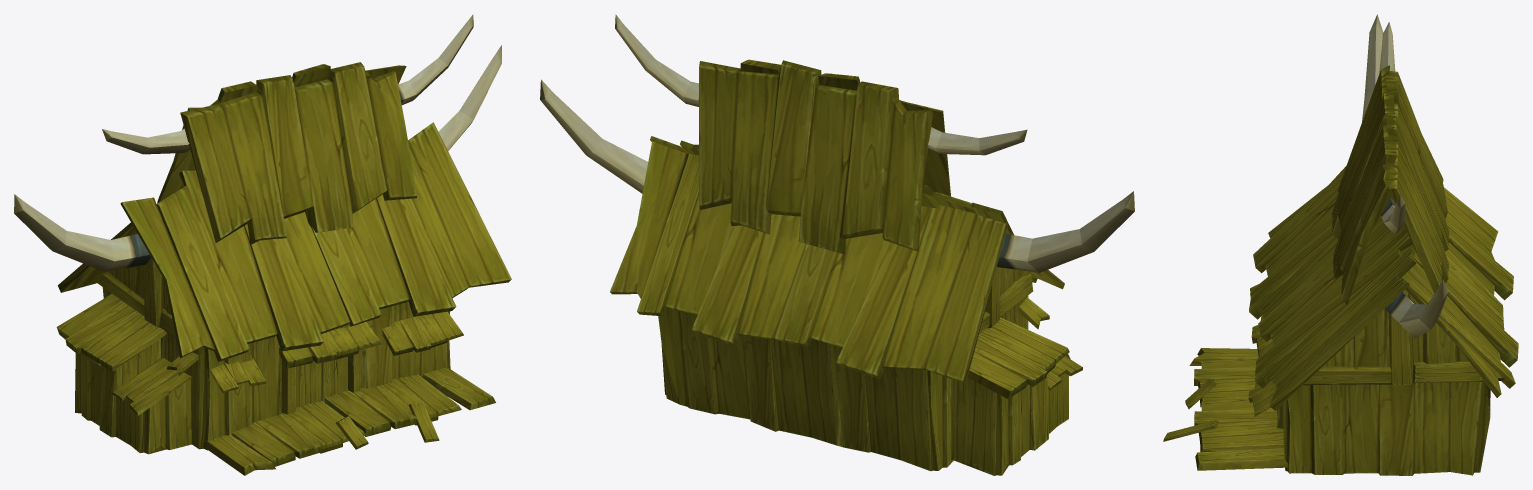
Rendered from Cunluo_fangzi01.FBX.
The picture shows the model from 3 angles, left to right: view 1: azimuth 30°, elevation 25°; view 2: azimuth 150°, elevation 25°; view 3: azimuth 270°, elevation 25°; orthographic projection. The views are drawn at different scales.
Visible parts, largest first — view 1: Cunluo_fangzi01; view 2: Cunluo_fangzi01; view 3: Cunluo_fangzi01.
Boxes of the visible parts, left/top/right/bottom form: Cunluo_fangzi01: left=14, top=14, right=511, bottom=475; Cunluo_fangzi01: left=540, top=14, right=1134, bottom=475; Cunluo_fangzi01: left=1163, top=14, right=1518, bottom=475.
Size of the model in its own units: 947 by 559 by 535.
